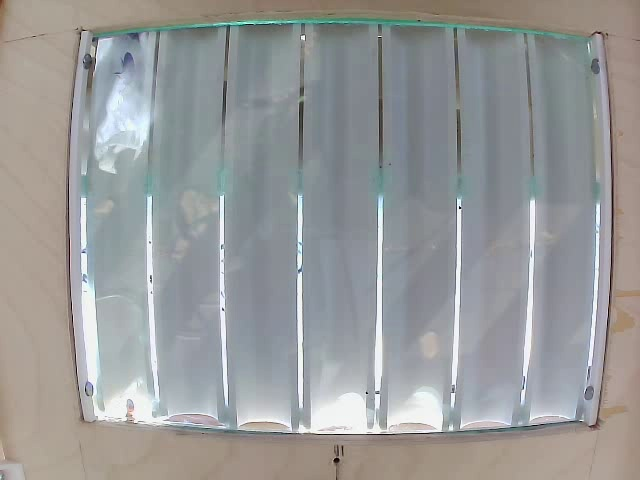bee: (107, 49, 139, 101)
